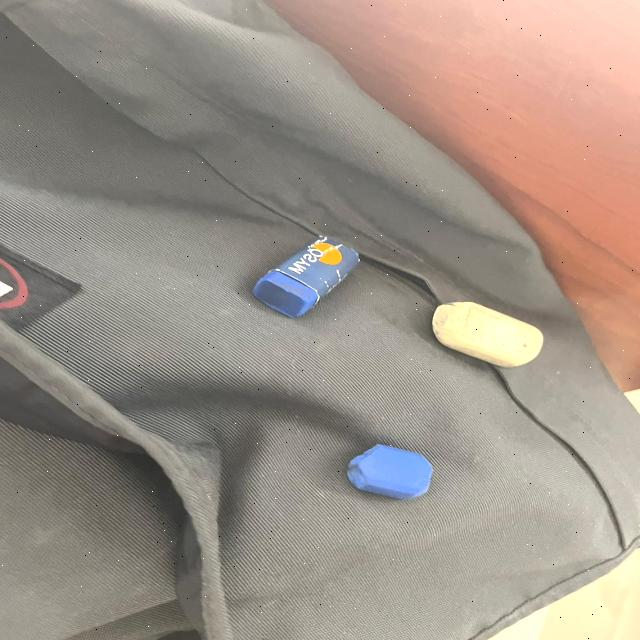eraser: (232, 230, 370, 330), (410, 298, 566, 371), (339, 436, 438, 506)
